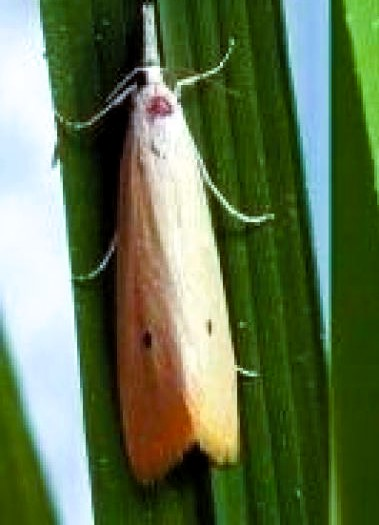yellow-stem-borer: (48, 7, 343, 482)
